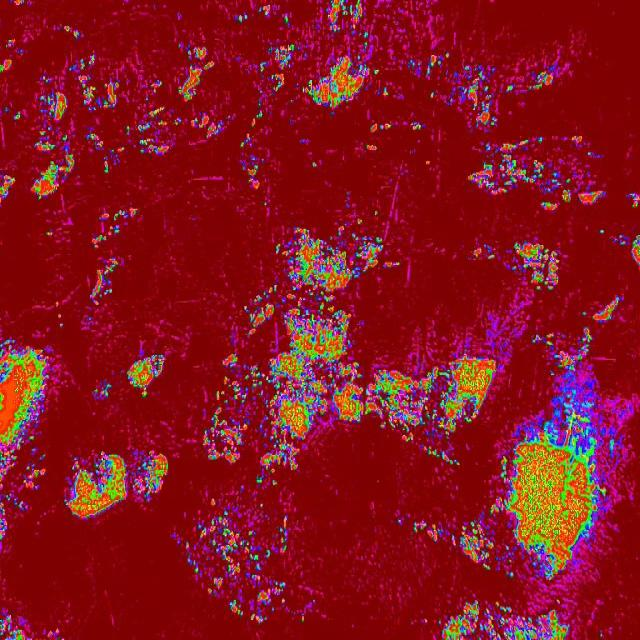fire: (246, 219, 383, 493), (501, 326, 618, 584), (170, 501, 290, 625), (0, 338, 56, 548), (464, 134, 606, 211), (384, 347, 499, 442), (63, 452, 168, 520), (425, 599, 574, 640), (30, 70, 73, 198), (202, 345, 246, 469), (444, 51, 500, 134), (301, 56, 368, 116), (72, 52, 119, 112), (510, 240, 560, 290), (173, 42, 214, 102), (85, 125, 132, 174), (258, 41, 300, 95), (452, 520, 495, 570), (126, 348, 164, 400), (92, 208, 136, 250), (138, 106, 170, 158), (90, 257, 118, 308), (324, 0, 367, 32), (240, 100, 265, 150), (590, 292, 624, 327), (419, 442, 463, 469), (611, 232, 640, 272), (188, 110, 232, 135), (402, 53, 445, 77), (0, 610, 32, 640), (528, 64, 558, 94), (413, 519, 447, 545), (239, 157, 265, 187), (92, 378, 114, 404), (472, 242, 499, 263), (0, 172, 18, 202), (300, 600, 318, 624), (367, 120, 395, 134), (54, 302, 66, 331), (63, 24, 83, 40), (42, 627, 66, 640), (626, 190, 640, 210), (486, 494, 499, 514), (0, 56, 13, 75), (342, 190, 353, 212), (258, 2, 278, 14), (233, 12, 250, 26), (409, 119, 424, 133), (377, 86, 390, 100), (362, 31, 371, 50), (12, 109, 24, 123), (384, 260, 400, 270), (504, 81, 516, 94), (151, 80, 164, 92), (4, 36, 15, 50), (365, 143, 380, 152), (282, 13, 292, 26), (172, 115, 182, 127), (10, 0, 28, 6), (428, 90, 438, 100), (372, 66, 382, 76), (45, 228, 55, 238), (262, 200, 272, 210), (3, 104, 10, 116), (310, 160, 319, 168), (396, 516, 402, 528), (598, 227, 608, 234), (598, 630, 605, 640), (372, 210, 382, 216), (17, 48, 23, 56), (582, 311, 588, 318)
